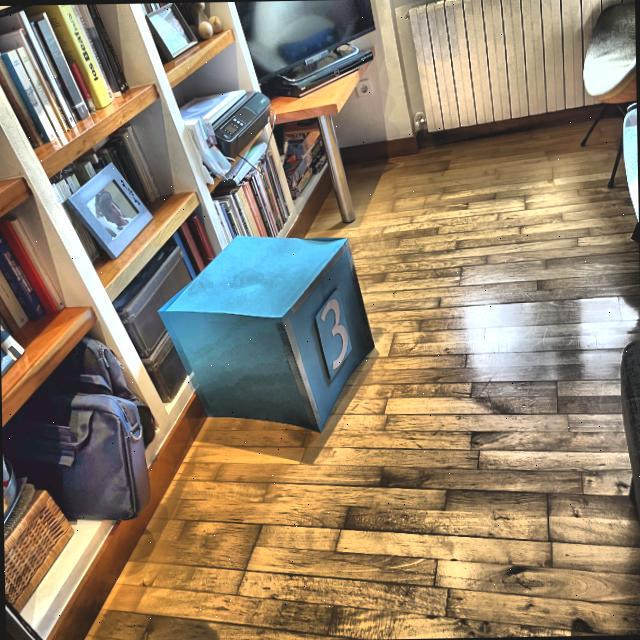blue box: (165, 235, 376, 436)
three: (318, 296, 351, 372)
